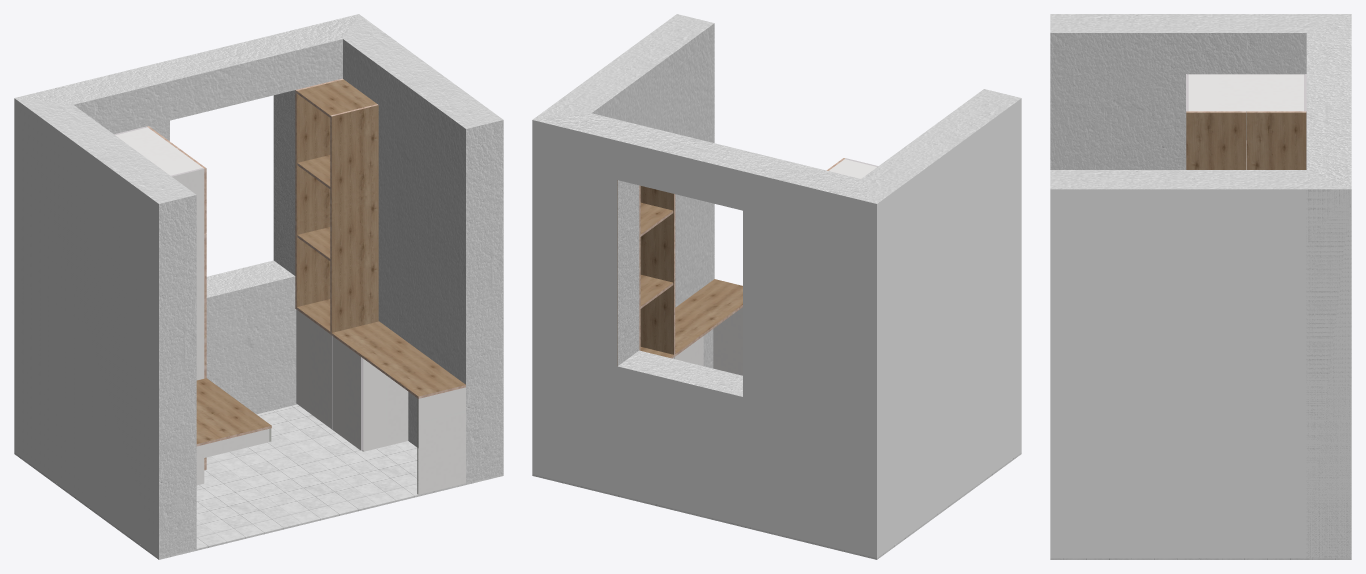
Rendered from dytiacha-49.glb.
The picture shows the model from 3 angles, left to right: view 1: azimuth 30°, elevation 25°; view 2: azimuth 150°, elevation 25°; view 3: azimuth 270°, elevation 25°; orthographic projection. The views are drawn at different scales.
Visible parts, largest first — view 1: L (×2), R, Бок (×4), підлога, Горизонтальная (×2), Фасад Лівий (×2), Кришка (×2), Боковина ліва, Кришка антресолі, Полка (×2), Дно; view 2: L (×2), R, Горизонтальная (×2), Бок, Полка (×2), підлога; view 3: R, L (×2), Двері (×2), Кришка антресолі, підлога.
Boxes of the visible parts, <box> form: L (×2): <box>14,14,378,557</box>; R: <box>343,14,503,483</box>; Бок (×4): <box>196,78,408,459</box>; підлога: <box>14,404,503,559</box>; Горизонтальная (×2): <box>331,321,465,494</box>; Фасад Лівий (×2): <box>296,309,363,450</box>; Кришка (×2): <box>196,79,376,446</box>; Боковина ліва: <box>171,168,204,485</box>; Кришка антресолі: <box>115,127,202,175</box>; Полка (×2): <box>297,155,330,260</box>; Дно: <box>296,299,330,333</box>; L (×2): <box>532,89,1021,558</box>; R: <box>532,14,714,368</box>; Горизонтальная (×2): <box>675,279,742,375</box>; Бок: <box>640,186,675,357</box>; Полка (×2): <box>640,202,673,308</box>; підлога: <box>532,452,1021,559</box>; R: <box>1050,170,1351,558</box>; L (×2): <box>1050,14,1351,557</box>; Двері (×2): <box>1186,111,1306,169</box>; Кришка антресолі: <box>1188,74,1303,113</box>; підлога: <box>1050,558,1351,559</box>.
Size of the model in its own units: 2750 by 2713 by 2001.
Materials: 14 (7 with a texture image).
